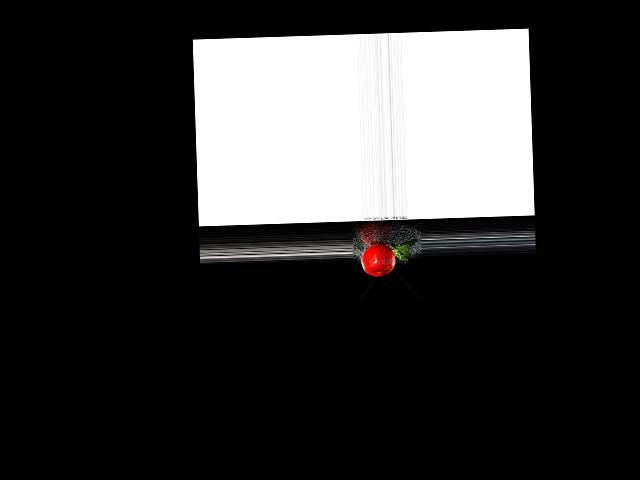tomato: (361, 244, 396, 277)
